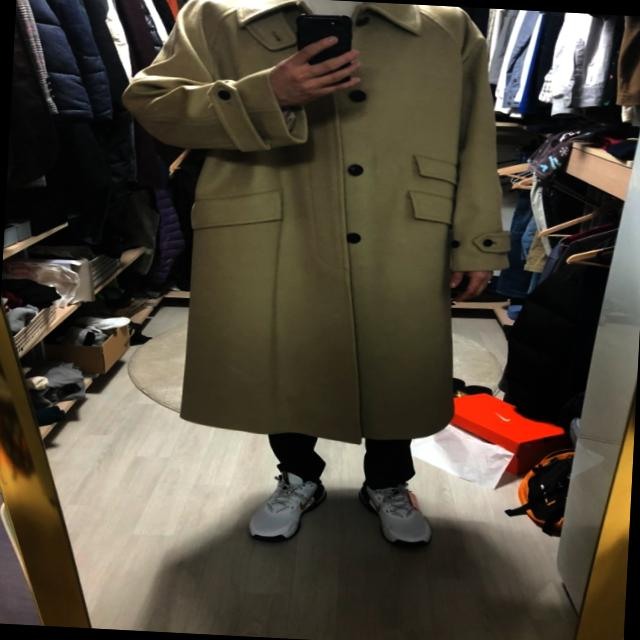coat: (106, 0, 526, 451)
